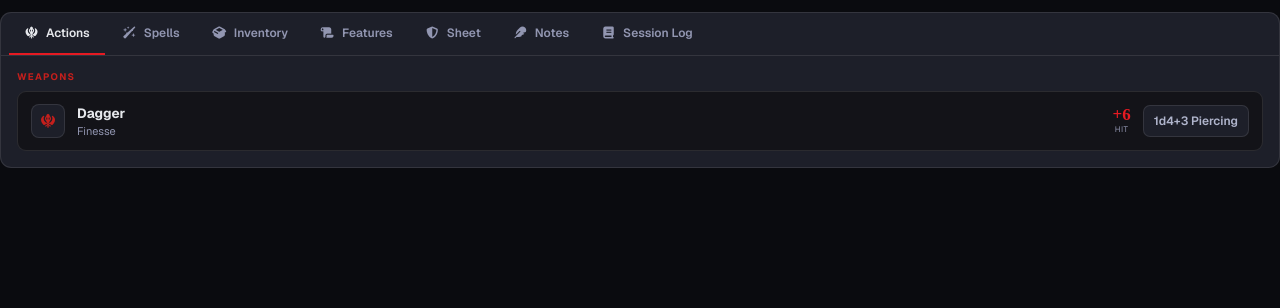
Scenario: ContentTabs › filters features by origin on the Features tab
Click the tab "Features": click(356, 34) top-left (305, 13), bottom-right (408, 55)
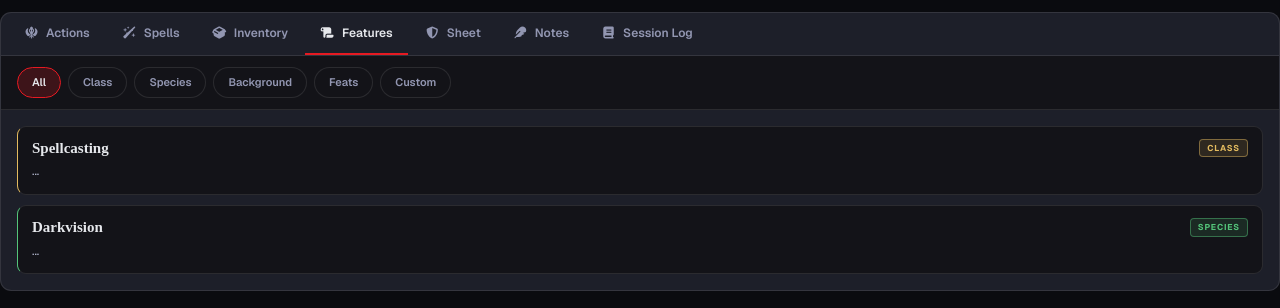
Expected: the text "Spellcasting" is shown, top-left (32, 138), bottom-right (109, 157)
Expected: the text "Darkvision" is shown, top-left (32, 218), bottom-right (103, 237)
Click the button "Species": click(170, 82) top-left (134, 67), bottom-right (206, 98)
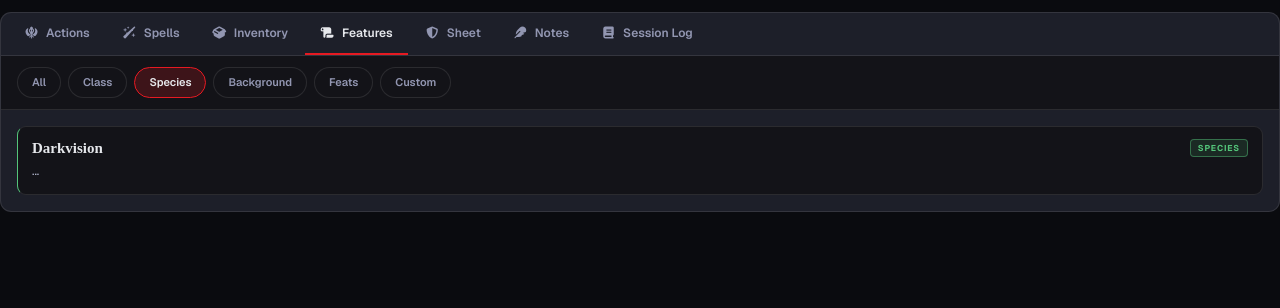
Expected: the text "Darkvision" is shown, top-left (32, 138), bottom-right (103, 157)
Expected: the text "Spellcasting" is gone
